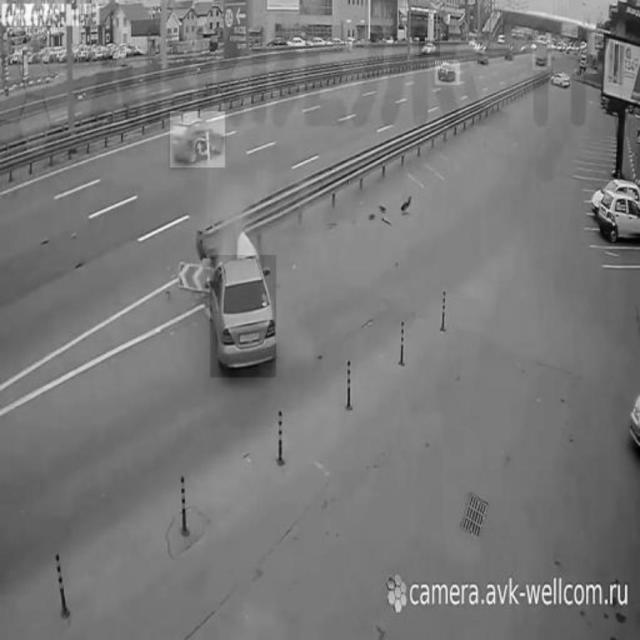vehicle: (210, 255, 276, 377), (170, 112, 226, 168), (598, 184, 640, 245), (532, 35, 550, 70), (435, 60, 460, 85), (548, 67, 573, 92), (419, 41, 439, 58), (475, 47, 492, 67)
